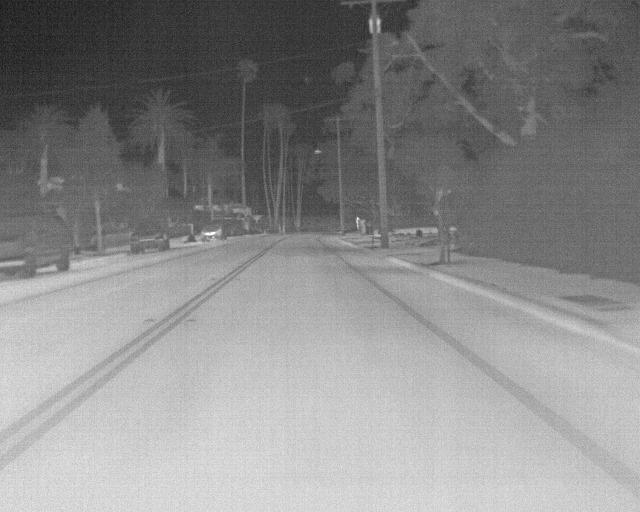car: (1, 211, 75, 281), (129, 223, 171, 254), (198, 222, 224, 241)
